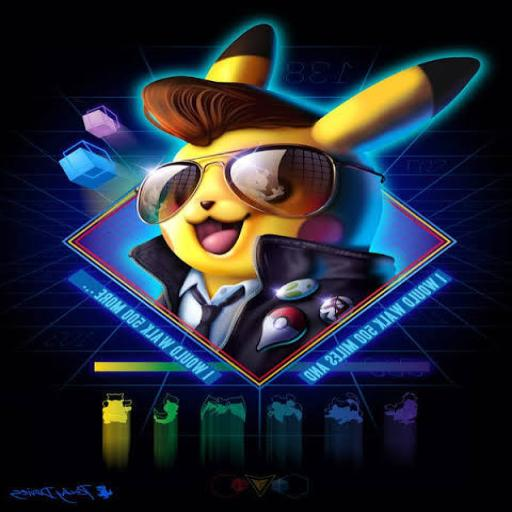Pikachu: (138, 24, 482, 372)
